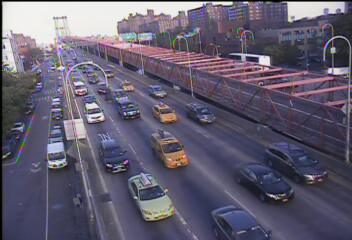neg: (64, 183, 89, 217), (1, 29, 23, 58), (6, 125, 25, 151), (46, 11, 63, 34)
